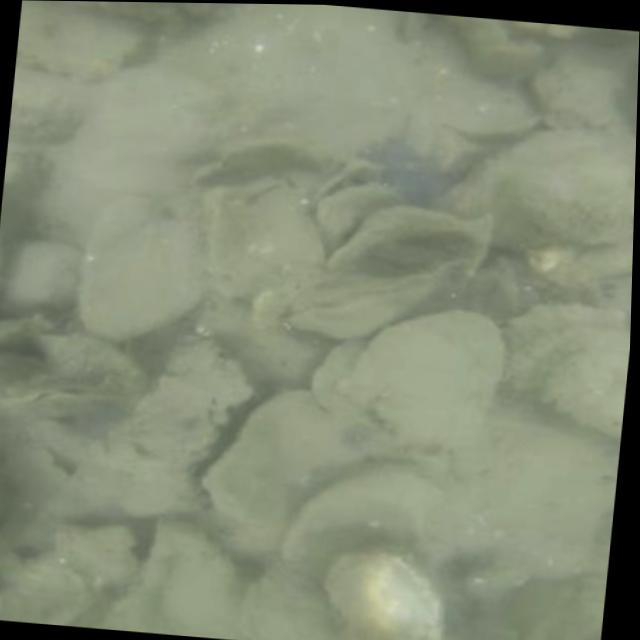Oyster-Indeterminate: (201, 387, 394, 533), (430, 126, 636, 248), (337, 312, 501, 445), (78, 187, 209, 342), (495, 305, 630, 449), (259, 257, 473, 341), (507, 143, 635, 242), (8, 65, 97, 144), (248, 560, 332, 640), (2, 239, 81, 310)
Oyster-Open: (187, 131, 345, 305), (313, 161, 401, 251)
